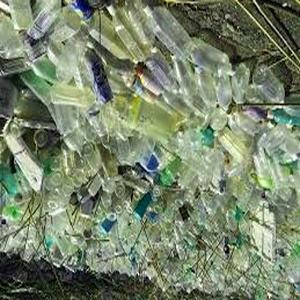Plastic: (190, 38, 236, 76), (253, 62, 289, 105)
